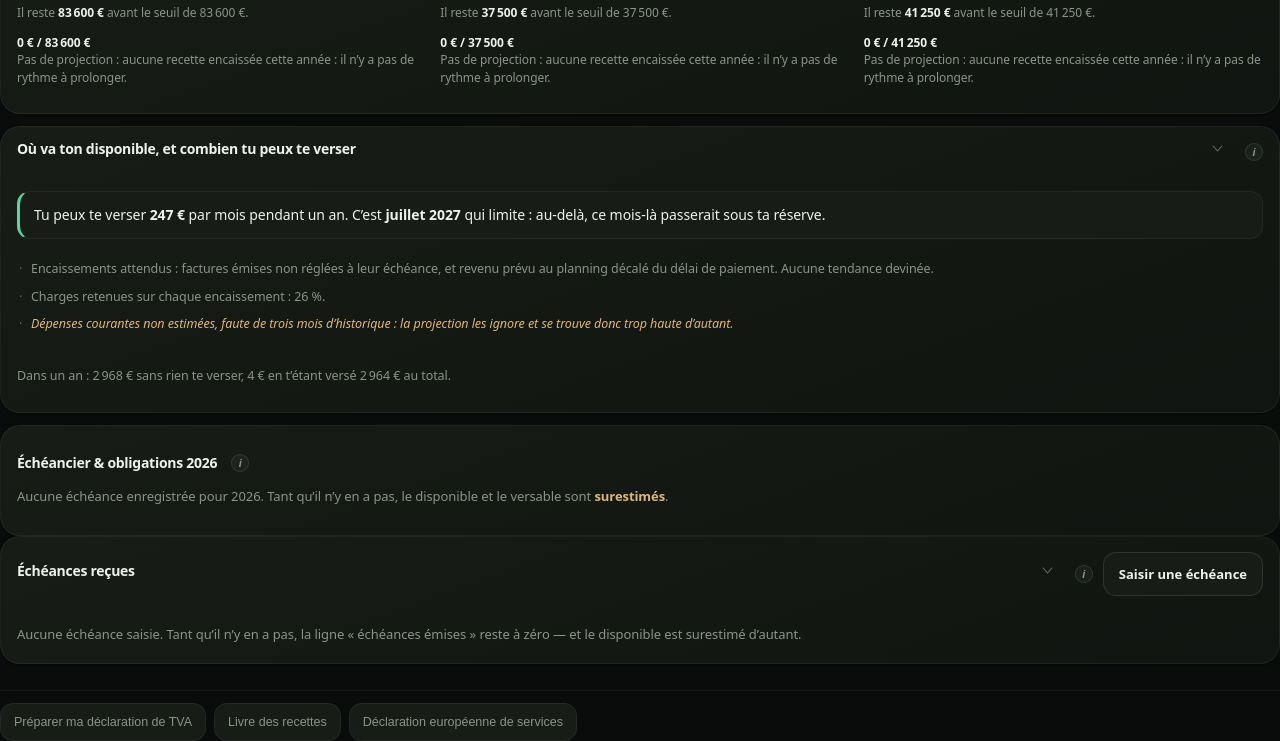
Test case: prestations à déclarer › permet de consulter un autre mois
This screenshot has width=1280, height=741.
(page scrolled)
Click the button "Déclaration européenne de services". click: (463, 722)
box: [349,703,577,740]
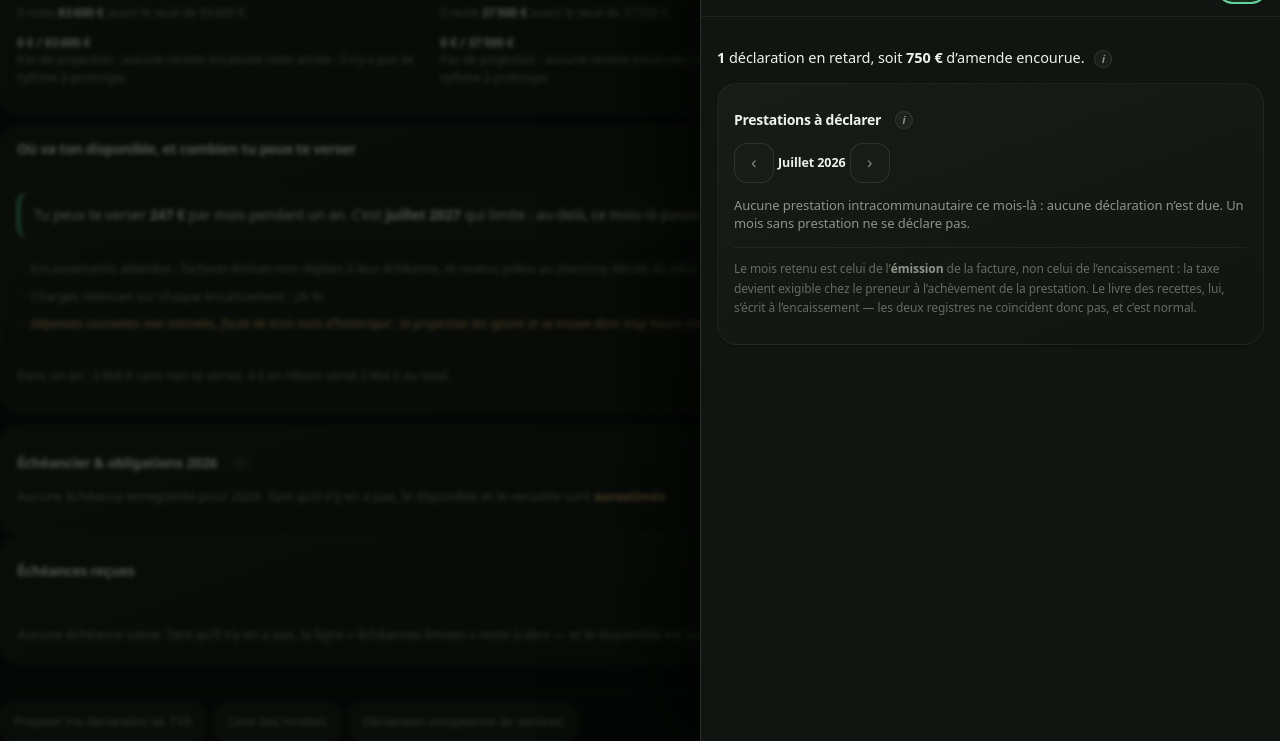
Expected: the text "Aucune prestation intracommunautaire" is shown, [734,196,1244,232]
Click the button named "Mois précédent". click: (754, 163)
box: [734,143,774,183]
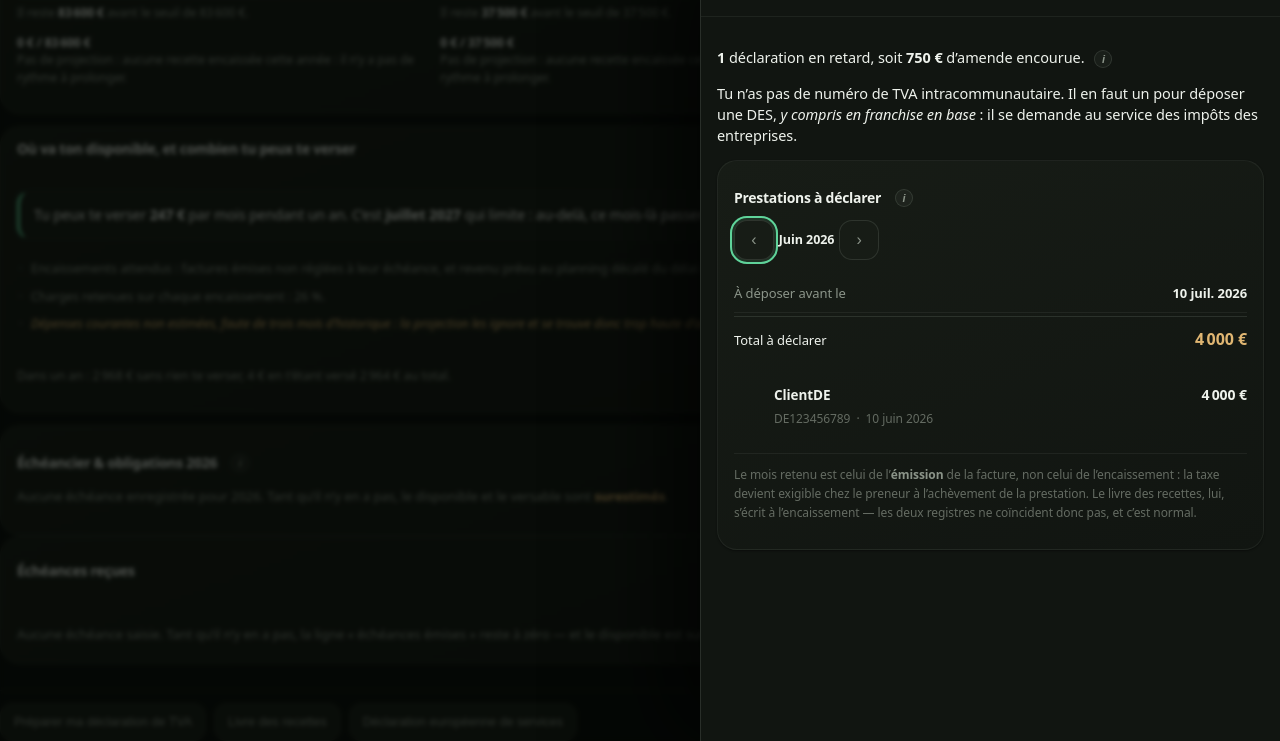
Expected: the text "DE123456789" is shown, [774,410,850,427]
